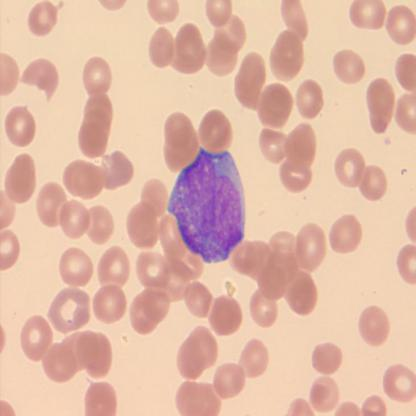Blast: (166, 144, 249, 266)
